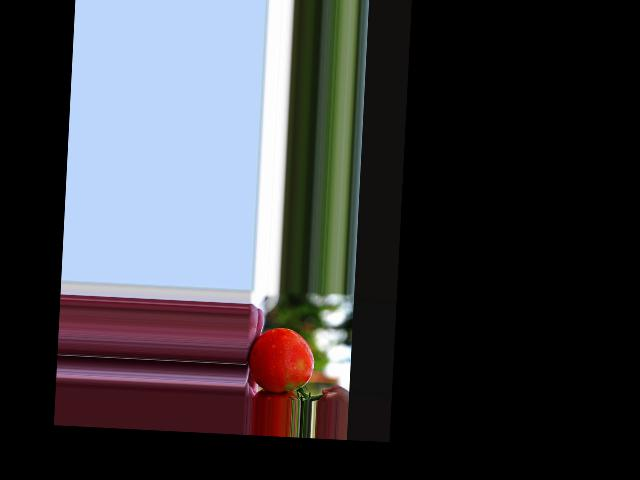tomato: (247, 326, 315, 393)
